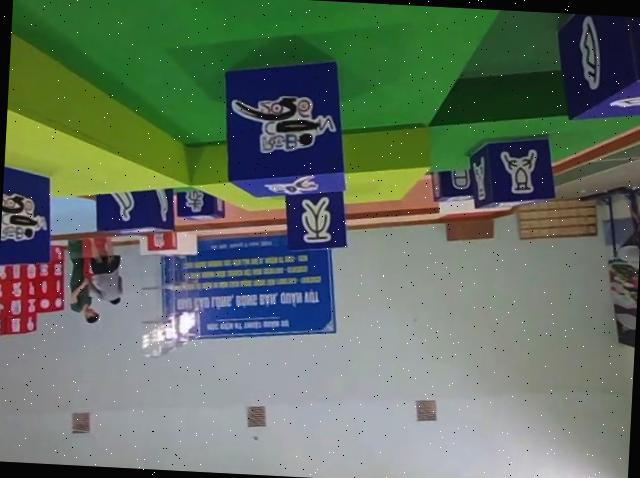R1 Blue: (219, 54, 351, 201), (0, 158, 52, 276)
R2 Fake Blue: (282, 185, 350, 253), (175, 187, 227, 222), (429, 167, 477, 204)
R2 Real Blue: (551, 12, 640, 124), (470, 130, 560, 213), (94, 183, 176, 236)
